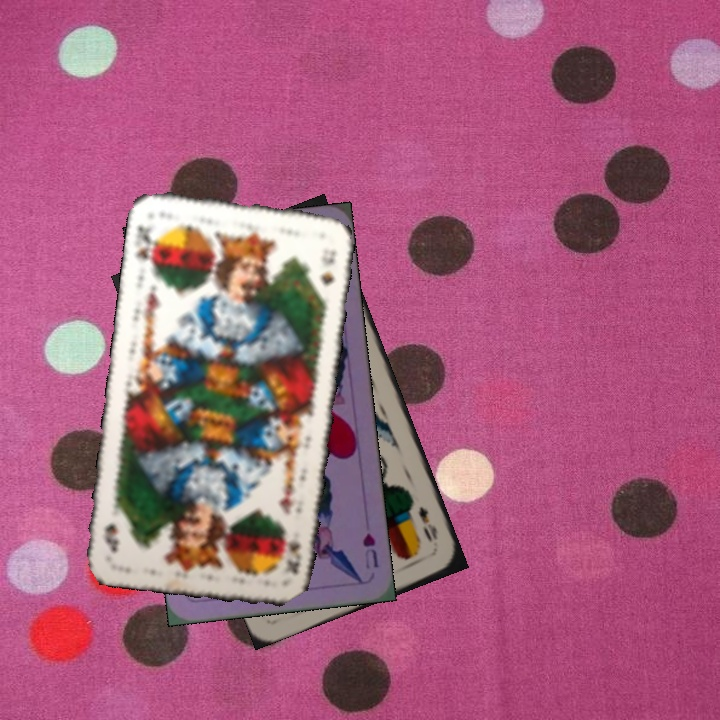EO: (414, 502, 441, 545)
HU: (358, 528, 381, 572)
SK: (131, 220, 159, 272), (281, 525, 304, 577)
